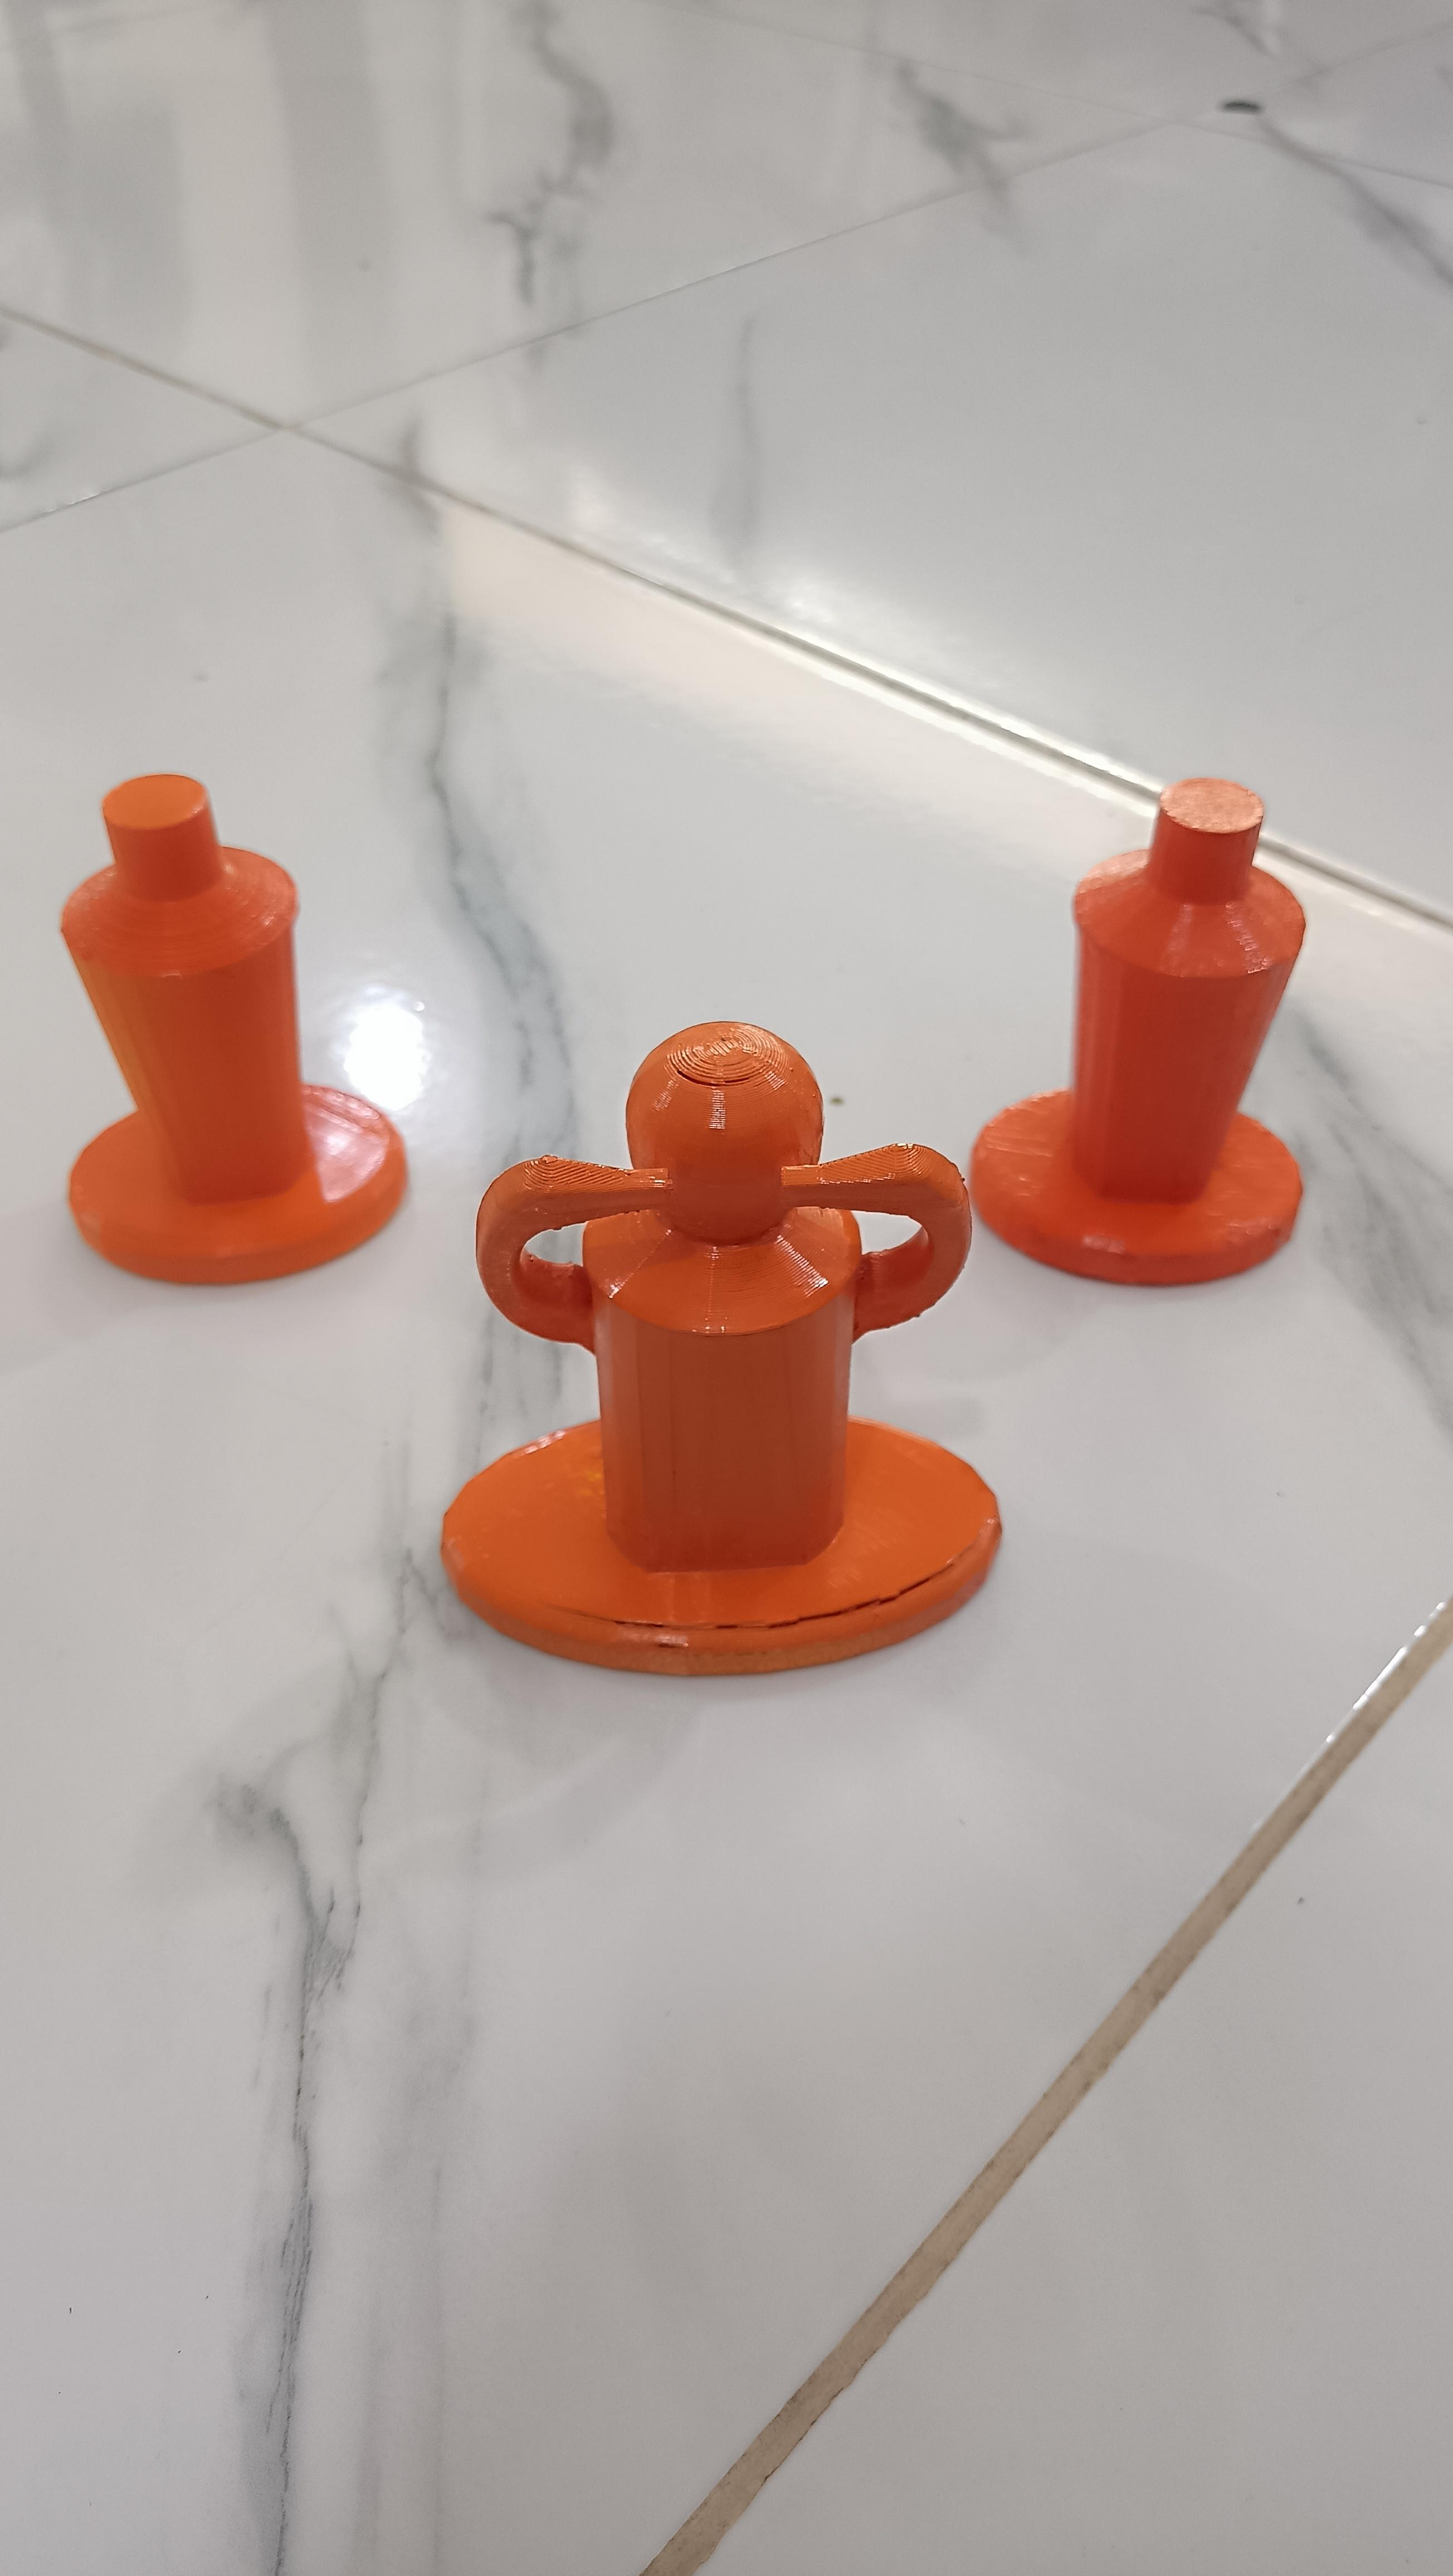dummy: (42, 769, 411, 1295), (1033, 724, 1349, 1336)
real_person: (426, 1014, 1006, 1739)
